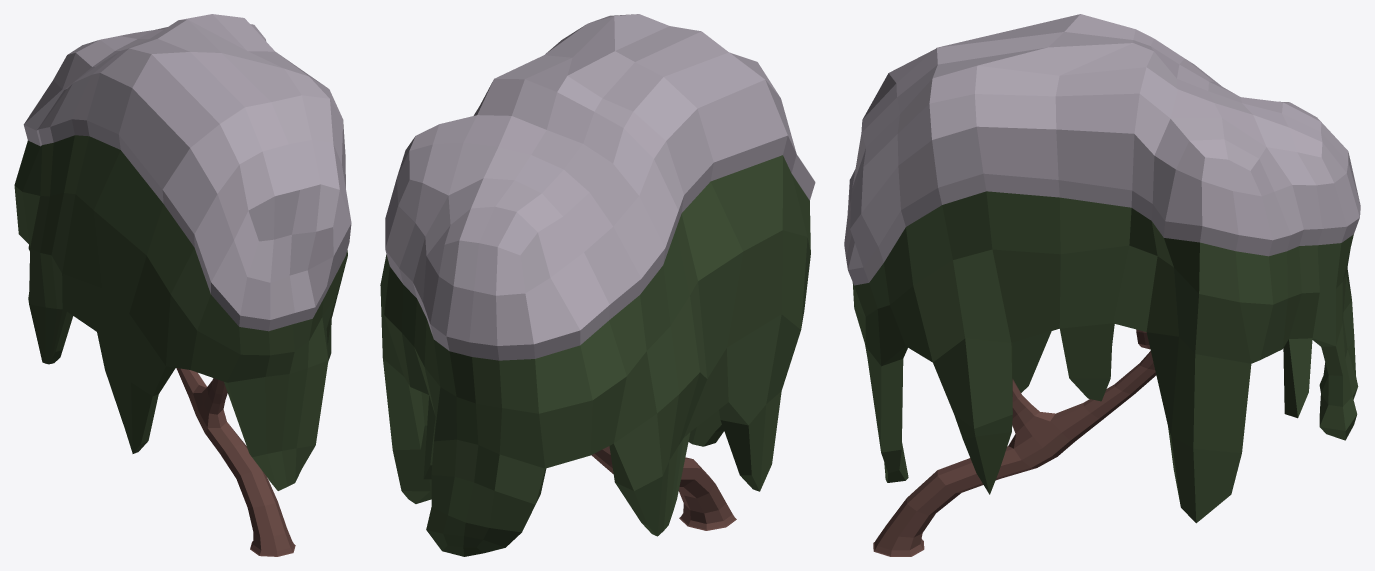
The picture shows the model from 3 angles, left to right: view 1: azimuth 30°, elevation 25°; view 2: azimuth 150°, elevation 25°; view 3: azimuth 270°, elevation 25°; orthographic projection. The views are drawn at different scales.
Parts seen in each view (by area): view 1: Willow_Snow_2; view 2: Willow_Snow_2; view 3: Willow_Snow_2.
Boxes of the visible parts, bbox=[...] form: Willow_Snow_2: bbox=[14, 14, 351, 556]; Willow_Snow_2: bbox=[380, 14, 815, 556]; Willow_Snow_2: bbox=[844, 14, 1360, 556].
Size of the model in its own units: 1.95 by 3.46 by 3.16.
